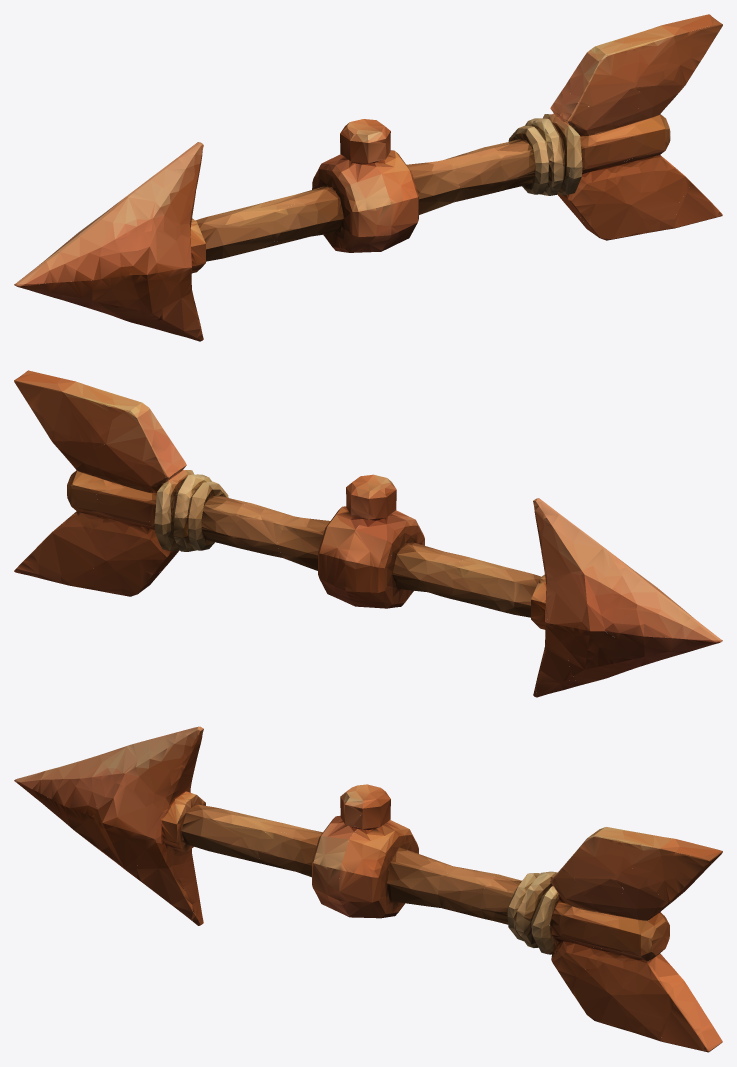
Rendered from building-windVane-arrow-tripo.glb.
3 renders of one model, top to bottom at view 1: azimuth 30°, elevation 25°; view 2: azimuth 150°, elevation 25°; view 3: azimuth 330°, elevation 25°, orthographic.
Parts seen in each view (by area): view 1: 0_windVane-arrow; view 2: 0_windVane-arrow; view 3: 0_windVane-arrow.
Boxes of the visible parts, x1,y1,x2,y2 form: 0_windVane-arrow: [14, 14, 722, 341]; 0_windVane-arrow: [14, 370, 722, 697]; 0_windVane-arrow: [14, 726, 722, 1052].
Bounding box in the file's own units: 1.15 × 0.3116 × 0.1473.
